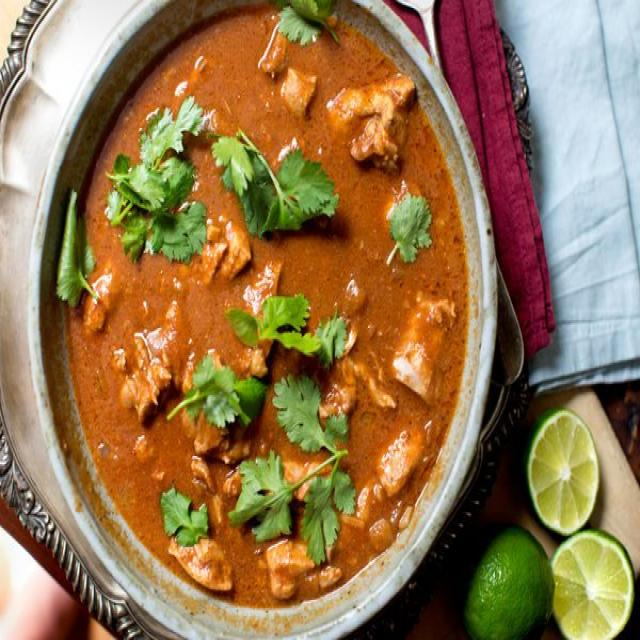Butter Chicken: (64, 0, 468, 610)
